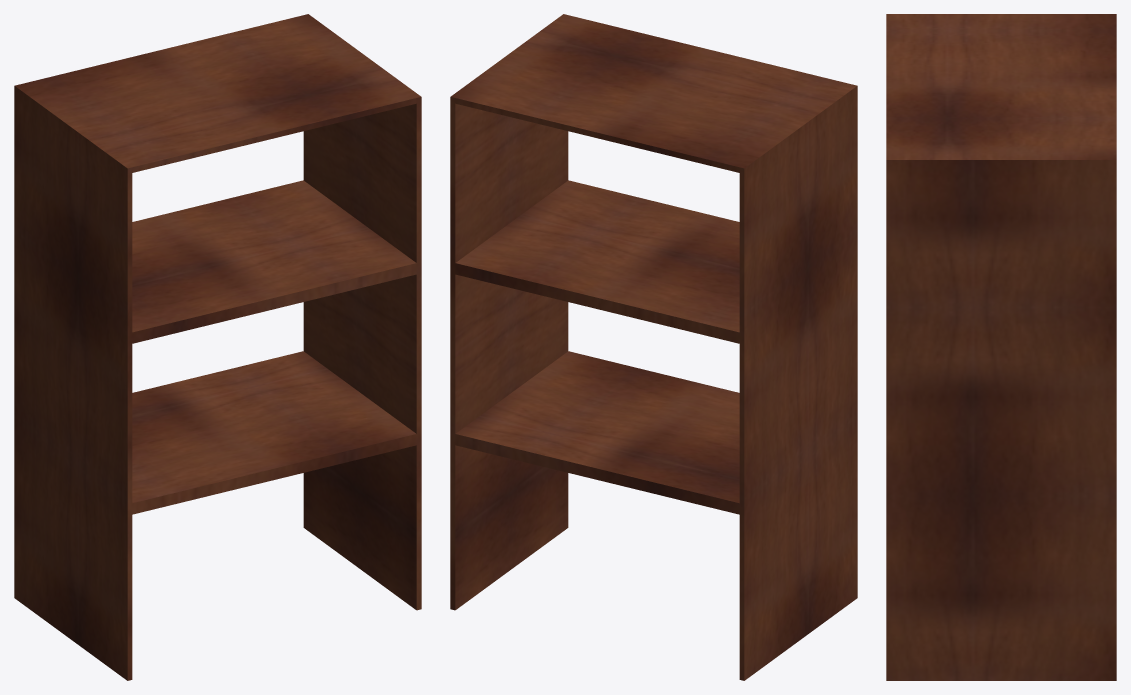
Rendered from Shelf60_FBX.fbx.
3 views of the same model, side by side, from view 1: azimuth 30°, elevation 25°; view 2: azimuth 150°, elevation 25°; view 3: azimuth 270°, elevation 25° (orthographic).
Parts seen in each view (by area): view 1: pCube16; view 2: pCube16; view 3: pCube16.
Part boxes in pixels (left/top/right/bottom): pCube16: left=14, top=14, right=421, bottom=680; pCube16: left=450, top=14, right=857, bottom=680; pCube16: left=886, top=14, right=1116, bottom=680.
Size of the model in its own units: 6 by 10 by 4.
